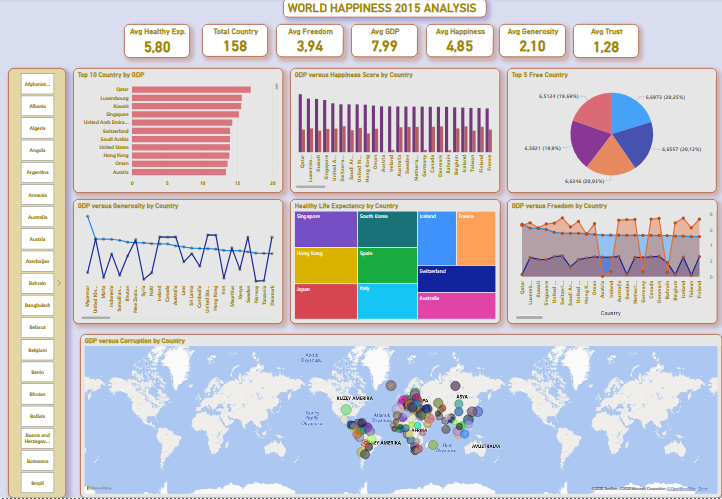

Layout of this report page (visuals, bound fields, positions):
{"tool":"powerbi","page":{"name":"2015","canvas":[1850,1280],"ordinal":3},"visuals":[{"type":"textbox","title":"WORLD HAPPINESS 2015 ANALYSIS","box":[725,0,521.2,50],"z":0},{"type":"card","title":"Avg GDP","fields":{"Values":["Avg(2015.GDP adj)"]},"box":[897.6,65.9,170.7,85.4],"z":1000},{"type":"card","title":"Total Country ","fields":{"Values":["Count(2015.Country)"]},"box":[517.8,66.7,168.9,84.4],"z":2000},{"type":"card","title":"Avg Freedom","fields":{"Values":["Avg(2015.Freedom adj)"]},"box":[707.3,65.9,173.2,85.4],"z":3000},{"type":"card","title":"Avg Happiness","fields":{"Values":["Avg(2015.Happiness adj)"]},"box":[1090.2,65.9,173.2,85.4],"z":4000},{"type":"card","title":"Avg Generosity","fields":{"Values":["Avg(2015.Generosity adj)"]},"box":[1278,65.9,170.7,85.4],"z":5000},{"type":"slicer","fields":{"Values":["2015.Country"]},"box":[19.6,178.4,149,1102],"z":6000},{"type":"barChart","title":"Top 10 Country by GDP ","fields":{"Category":["2015.Country"],"Y":["Avg(2015.GDP adj)"]},"box":[186.9,178.7,537.7,319.7],"z":7000},{"type":"lineClusteredColumnComboChart","title":"GDP versus Happiness Score by Country","fields":{"Category":["2015.Country"],"Y":["Avg(2015.GDP adj)","Avg(2015.Happiness adj)"]},"box":[742.6,178.7,537.7,319.7],"z":8000},{"type":"lineChart","title":"GDP versus Generosity by Country","fields":{"Category":["2015.Country"],"Y":["Avg(2015.Generosity adj)"],"Y2":["Avg(2015.GDP adj)"]},"box":[186.9,514.8,537.7,319.7],"z":9000},{"type":"treemap","title":"Healthy Life Expectancy by Country","fields":{"Group":["2015.Country"],"Values":["Sum(2015.Health adj)"]},"box":[741.5,514.6,539,319.5],"z":10000},{"type":"pieChart","title":"Top 5 Free Country","fields":{"Category":["2015.Country"],"Y":["Sum(2015.Freedom adj)"]},"box":[1297.6,178,536.6,319.5],"z":11000},{"type":"areaChart","title":"GDP versus Freedom by Country","fields":{"Category":["2015.Country"],"Y":["Sum(2015.GDP adj)","Sum(2015.Freedom adj)"],"Y2":["Sum(2015.Happiness adj)"]},"box":[1297.6,514.6,539,319.5],"z":12000},{"type":"map","title":"GDP versus Corruption by Country","fields":{"Category":["2015.Country","2015.Region"],"Size":["Avg(2015.GDP adj)"],"Series":["2015.Trust adj"]},"box":[205.8,859.6,1644.2,421.2],"z":13000},{"type":"card","title":"Avg Trust","fields":{"Values":["Avg(2015.Trust adj)"]},"box":[1466.7,66.7,168.9,86.7],"z":14000},{"type":"card","title":"Avg Healthy Exp.","fields":{"Values":["Avg(2015.Health adj)"]},"box":[317.8,66.7,168.9,86.7],"z":15000}]}

Visuals, with their boxes on the page's 1850x1280 design canvas (x1, y1, x2, y2). These are canvas units, not pixel positions in the 722x499 screenshot, which may show the page scaled, cropped or inside an application window:
"WORLD HAPPINESS 2015 ANALYSIS" textbox: region(725, 0, 1246, 50)
"Avg GDP" card: region(898, 66, 1068, 151)
"Total Country " card: region(518, 67, 687, 151)
"Avg Freedom" card: region(707, 66, 880, 151)
"Avg Happiness" card: region(1090, 66, 1263, 151)
"Avg Generosity" card: region(1278, 66, 1449, 151)
slicer - 2015.Country: region(20, 178, 169, 1280)
"Top 10 Country by GDP " barChart: region(187, 179, 725, 498)
"GDP versus Happiness Score by Country" lineClusteredColumnComboChart: region(743, 179, 1280, 498)
"GDP versus Generosity by Country" lineChart: region(187, 515, 725, 834)
"Healthy Life Expectancy by Country" treemap: region(742, 515, 1280, 834)
"Top 5 Free Country" pieChart: region(1298, 178, 1834, 498)
"GDP versus Freedom by Country" areaChart: region(1298, 515, 1837, 834)
"GDP versus Corruption by Country" map: region(206, 860, 1850, 1281)
"Avg Trust" card: region(1467, 67, 1636, 153)
"Avg Healthy Exp." card: region(318, 67, 487, 153)
